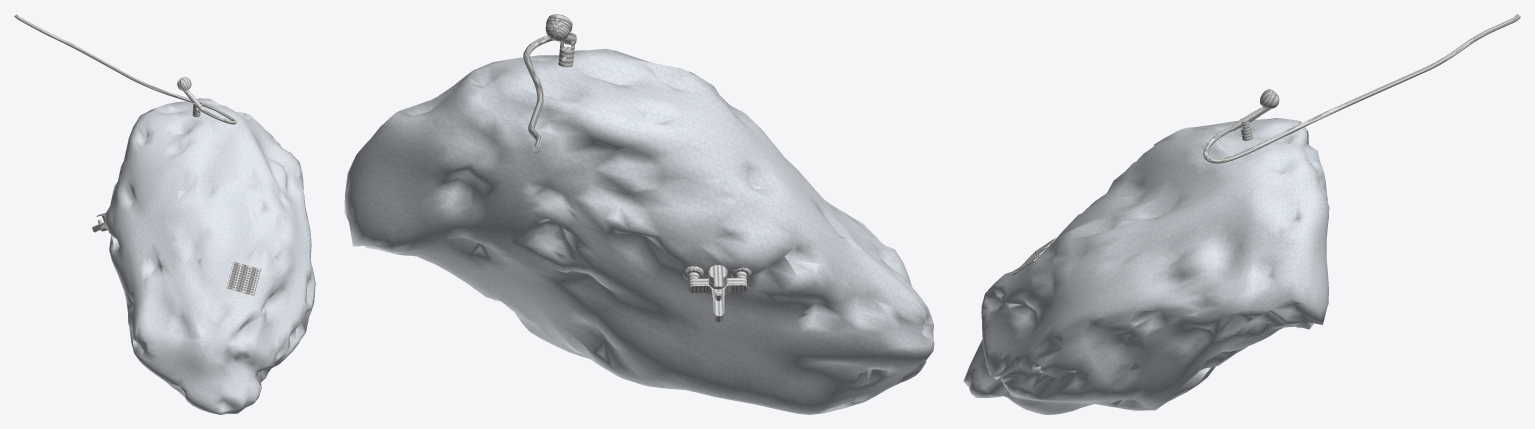
3 views of the same model, side by side, from view 1: azimuth 30°, elevation 25°; view 2: azimuth 150°, elevation 25°; view 3: azimuth 270°, elevation 25° (orthographic). The views are drawn at different scales.
Parts seen in each view (by area): view 1: object 2, object 1, galler golvbrunn, Ytterram golvbrunn badrum, object #3; view 2: object 2, object 1, object #3, Difference; view 3: object 2, object 1, object #3.
Part boxes in pixels (<box>): object 2: <box>105,98,315,414</box>; object 1: <box>14,14,236,124</box>; galler golvbrunn: <box>226,262,259,294</box>; Ytterram golvbrunn badrum: <box>225,261,261,295</box>; object #3: <box>177,77,204,112</box>; object 2: <box>344,48,934,414</box>; object 1: <box>523,32,576,153</box>; object #3: <box>545,14,576,44</box>; Difference: <box>688,278,747,292</box>; object 2: <box>963,118,1329,414</box>; object 1: <box>1203,14,1520,163</box>; object #3: <box>1231,89,1279,130</box>.
Size of the model in its own units: 1.02 by 1.11 by 1.55.
Materials: 4 (3 with a texture image).
